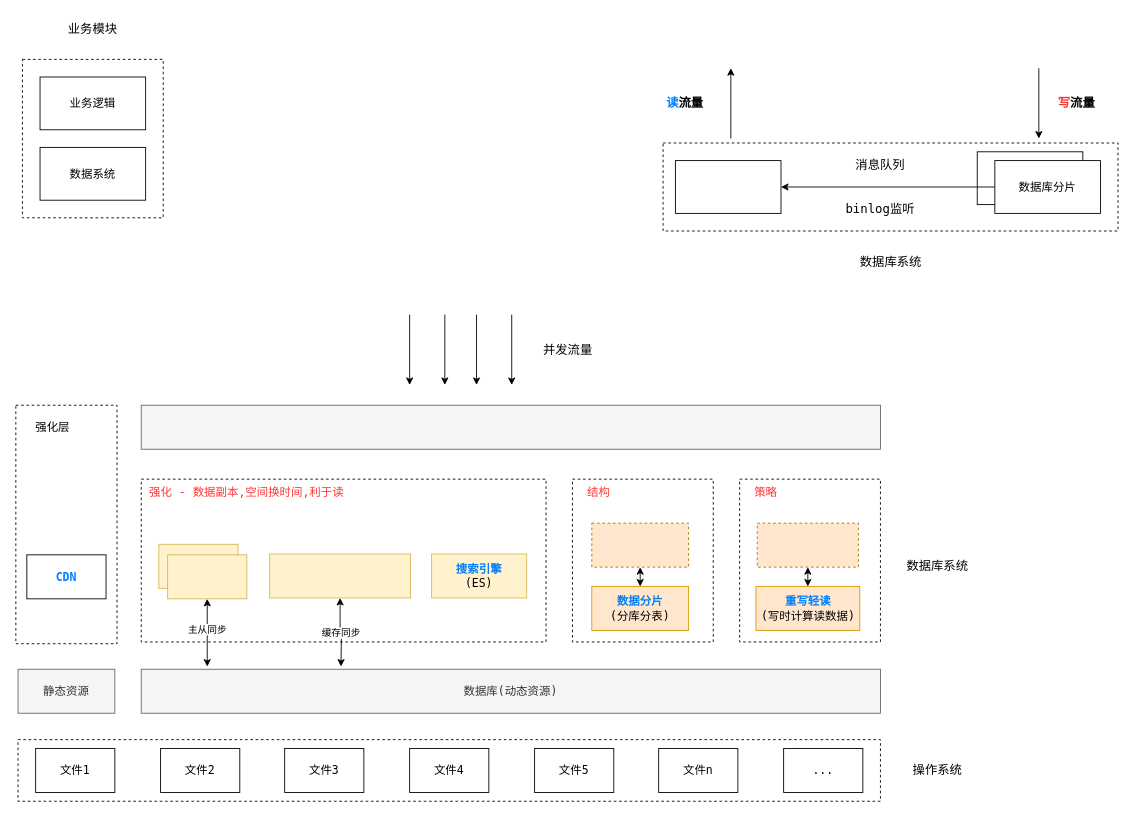
The diagram is 1133 pixels wide and 817 high, and some of its shapes have lost their labels. Each missing label, with the box of its shape:
Slave (副本): (167, 554, 247, 599)
分片索引 (定位数据 分片 ): (591, 522, 689, 567)
实时计算/定时算: (756, 522, 858, 567)
异步组件(消息队列): (140, 404, 880, 449)
缓存: (675, 160, 781, 213)
缓存 (Memcached/Redis): (269, 553, 411, 598)
